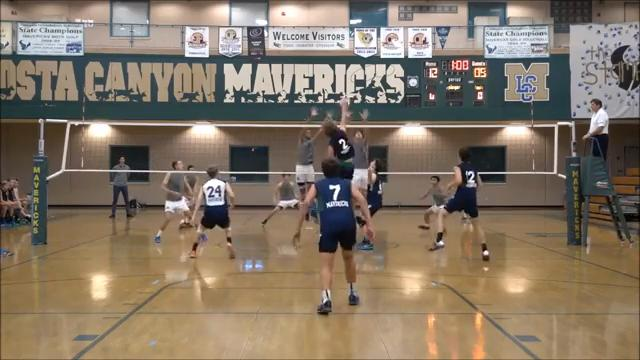Attack: (315, 94, 358, 190)
Block: (284, 103, 324, 209), (343, 109, 371, 211)
Player: (293, 158, 373, 314), (430, 147, 488, 260), (190, 166, 234, 258), (154, 160, 191, 242), (261, 174, 298, 225), (419, 175, 447, 229), (367, 159, 382, 216), (186, 165, 198, 212)
